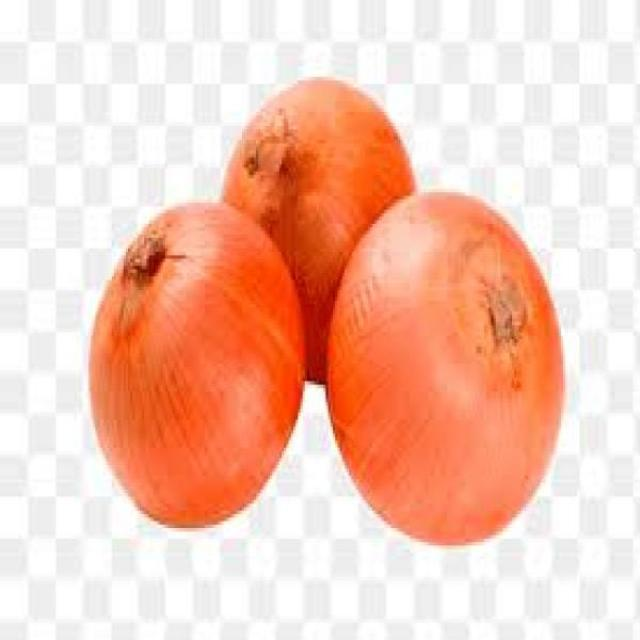Onion: (326, 191, 566, 549), (85, 204, 307, 531), (220, 78, 419, 387)
